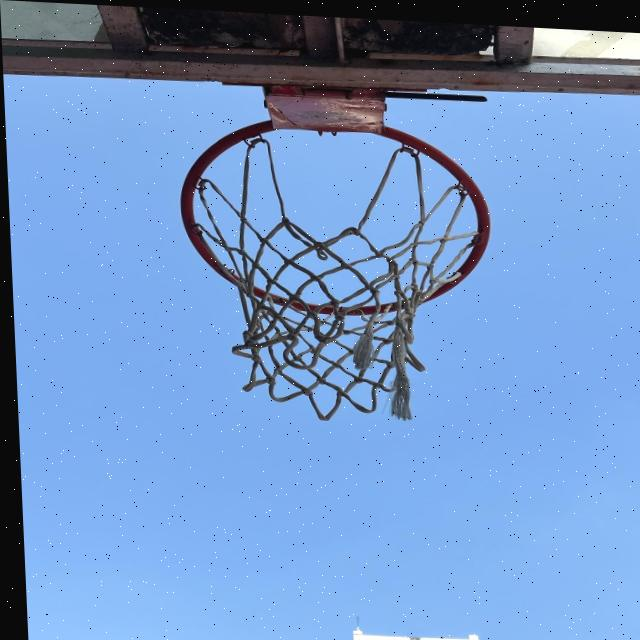hoop: (129, 65, 515, 445)
